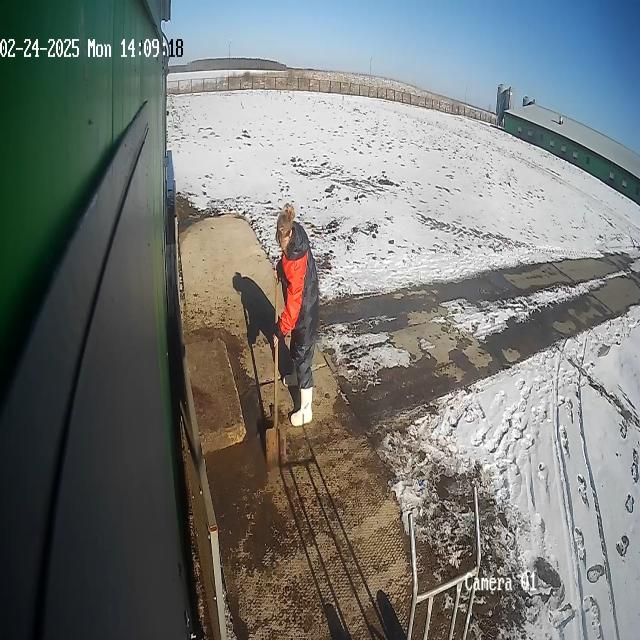Red uniform: (270, 202, 320, 430)
